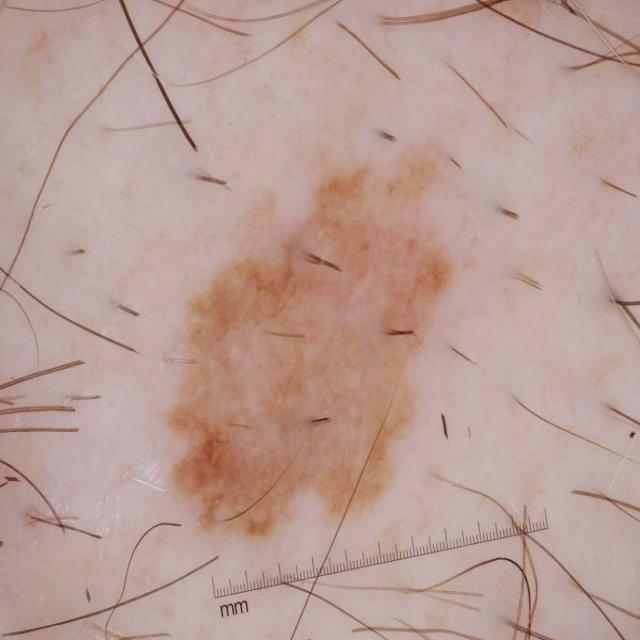Melanoma: (160, 149, 460, 530)
